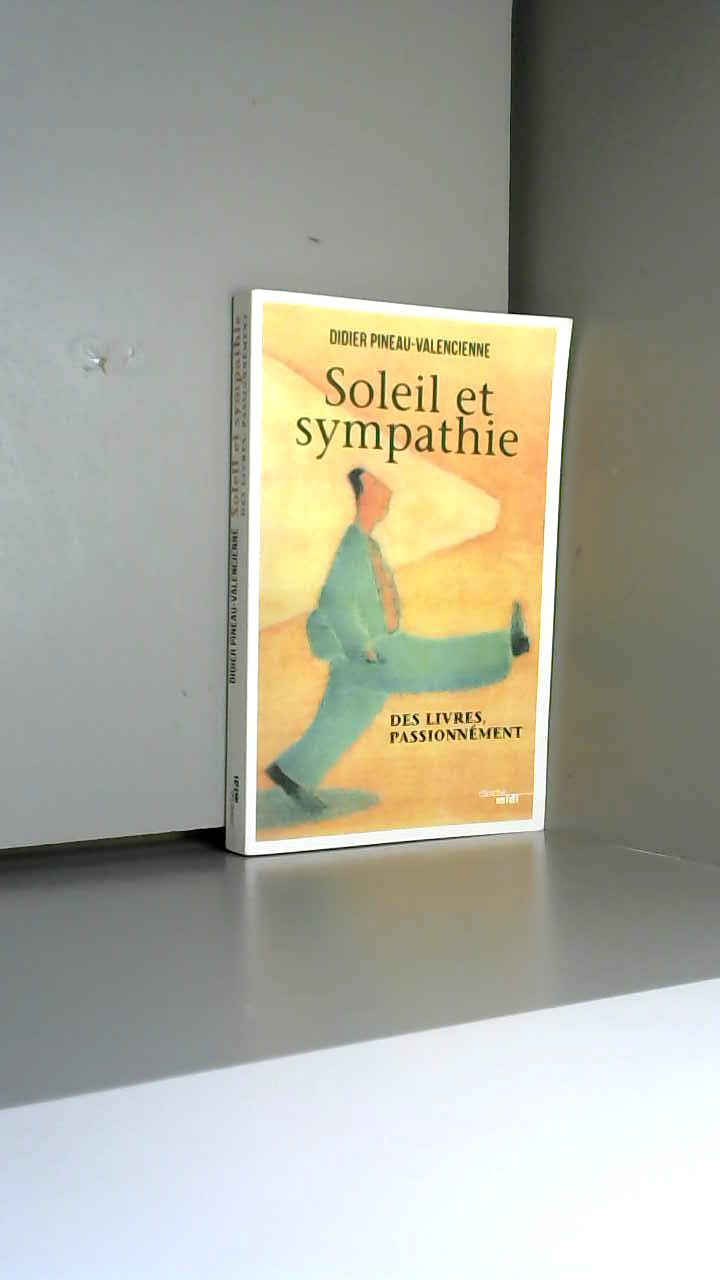book: (183, 248, 599, 915)
